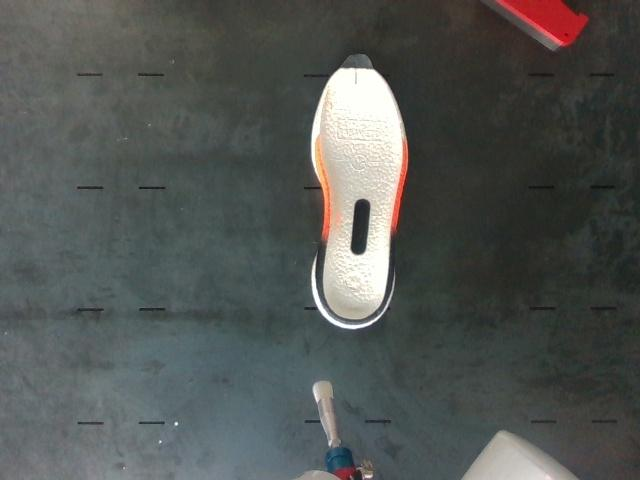shoes: (318, 56, 404, 324)
